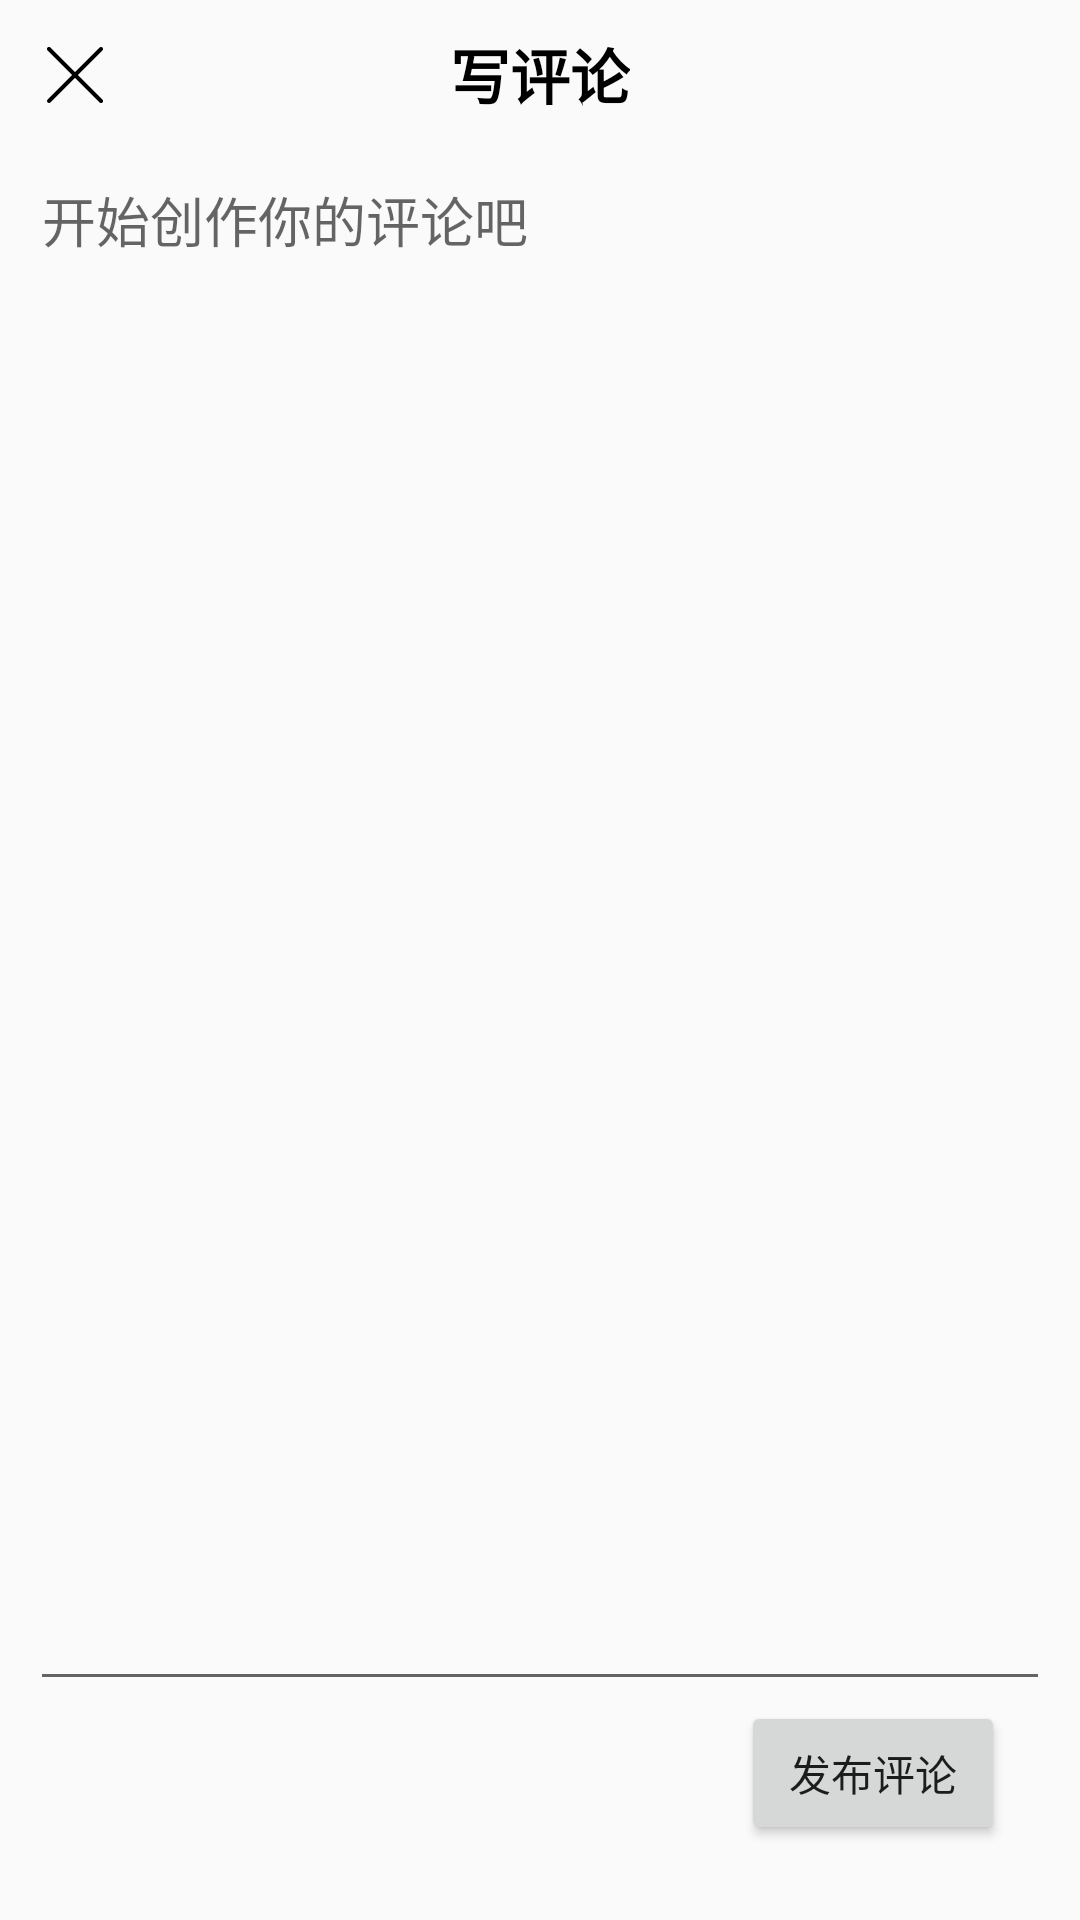

Screen size 1080px×1920px. Icon name, then its center in pixels as point (x, y):
cancel: point (75, 75)
